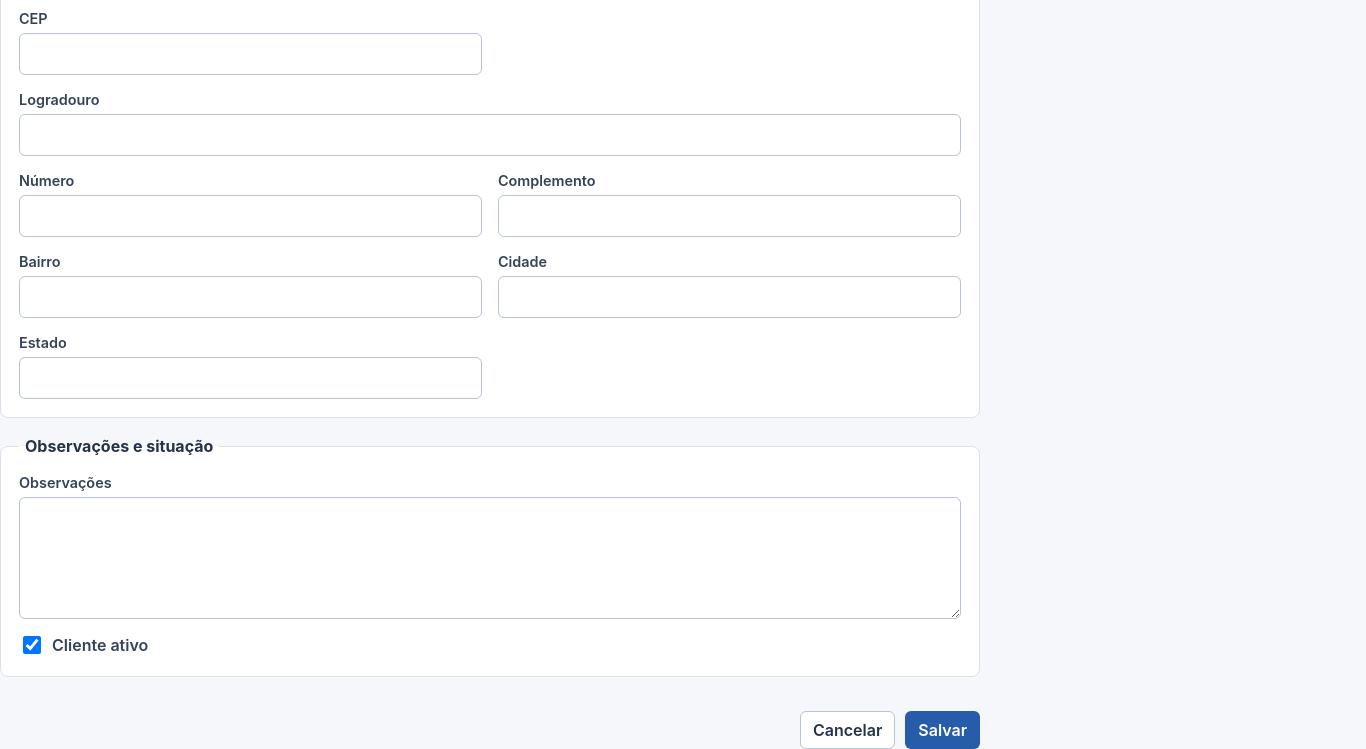
CustomerForm › validates required name
(page scrolled)
Click the button "Salvar".
click(943, 730)  # box [905,711,980,748]
(page scrolled)
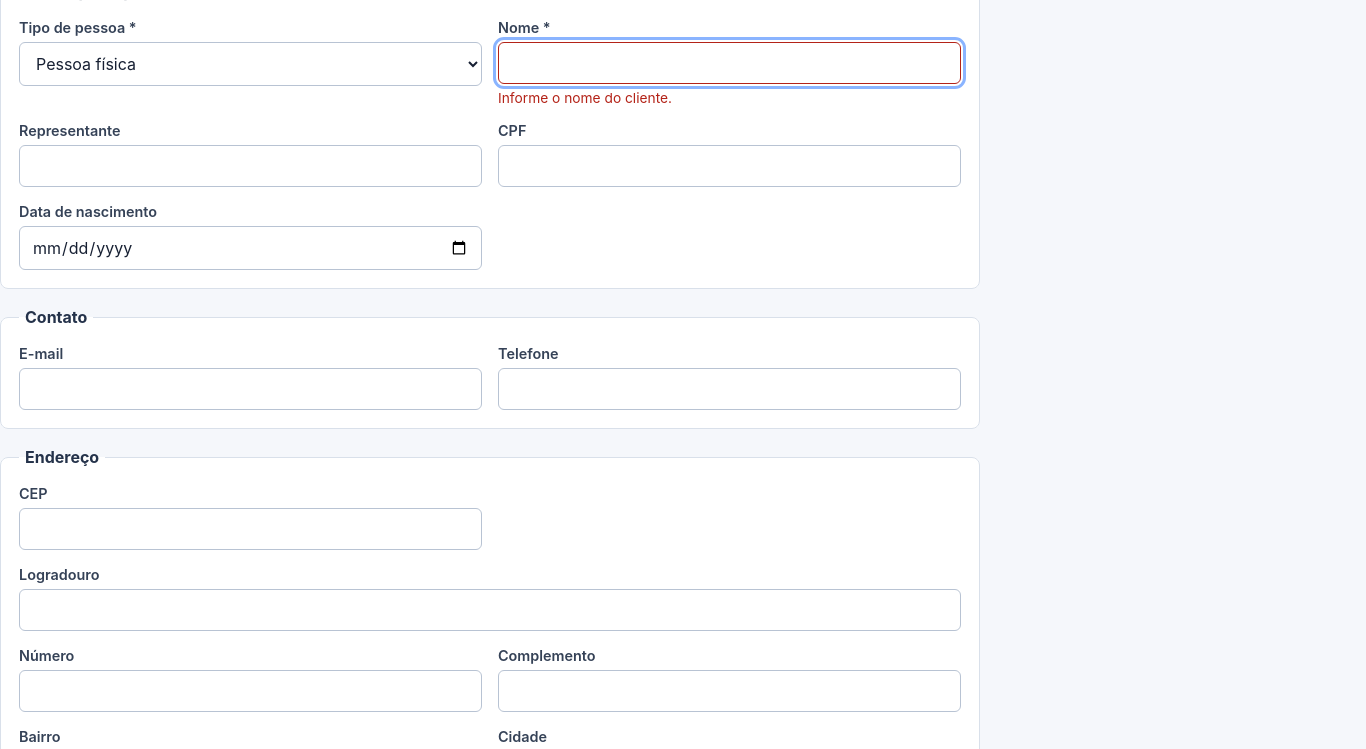
Expected: the text "Informe o nome do cliente." is shown, [498,90,672,106]
